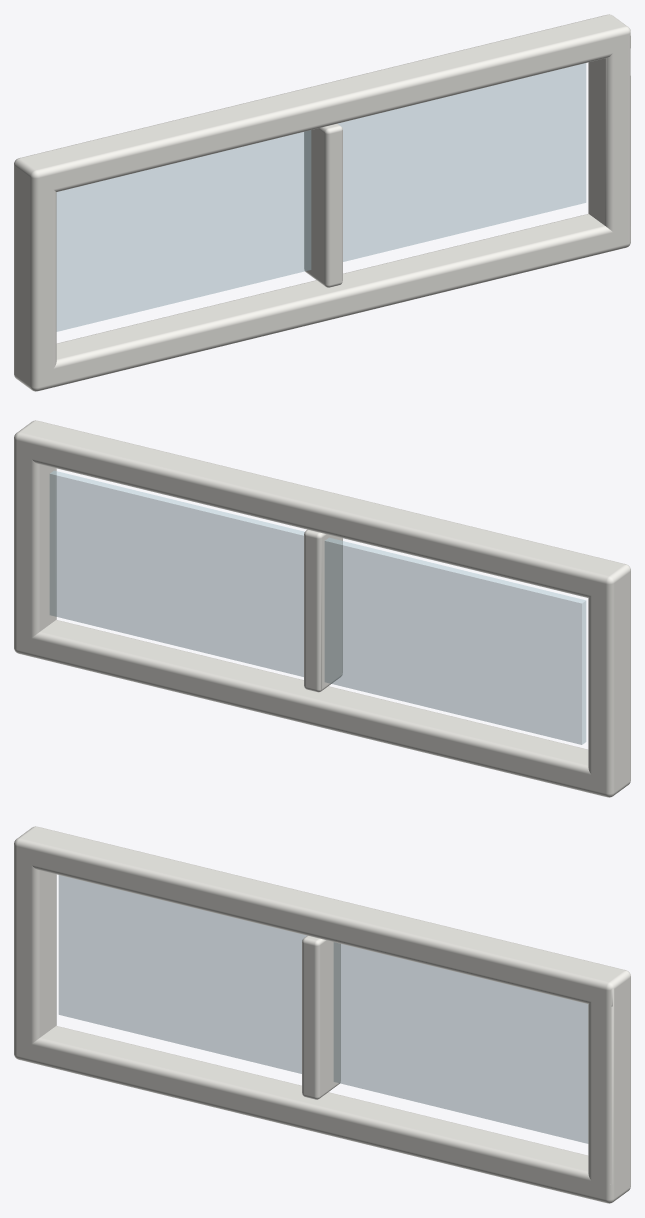
File: modern-transom-window.optimized.glb
3 renders of one model, top to bottom at view 1: azimuth 30°, elevation 25°; view 2: azimuth 150°, elevation 25°; view 3: azimuth 330°, elevation 25°, orthographic.
Parts seen in each view (by area): view 1: frame top rail, horizontal transom glass; view 2: horizontal transom glass, frame top rail; view 3: frame top rail, horizontal transom glass.
Part boxes in pixels (x1,y1,x2,y2): frame top rail: (14, 14, 630, 391); horizontal transom glass: (56, 63, 586, 331); horizontal transom glass: (49, 470, 586, 744); frame top rail: (14, 420, 630, 797); frame top rail: (14, 826, 630, 1203); horizontal transom glass: (58, 875, 588, 1143).
Bounding box in the file's own units: 1.42 × 0.5 × 0.1.
